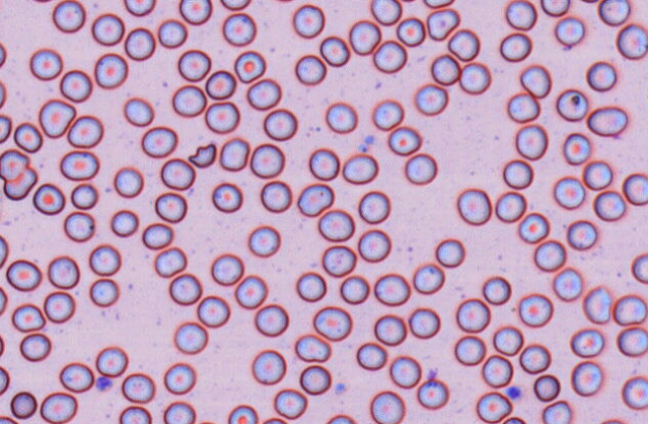PLT: (95, 374, 113, 392), (507, 385, 522, 400), (334, 382, 349, 396), (358, 143, 370, 153), (364, 135, 374, 145)
RBC: (38, 98, 75, 138), (312, 305, 352, 341), (456, 187, 491, 225), (249, 142, 284, 178), (251, 349, 286, 385), (94, 52, 128, 89), (587, 105, 627, 136), (455, 297, 490, 332), (518, 292, 553, 327), (67, 114, 103, 148), (317, 208, 354, 241), (373, 272, 410, 305), (39, 391, 77, 423), (59, 150, 99, 180), (369, 390, 405, 423), (348, 19, 381, 55), (297, 183, 333, 216), (515, 123, 547, 160), (3, 166, 37, 200), (357, 228, 391, 262), (373, 39, 407, 73), (222, 12, 256, 46), (254, 303, 289, 336), (160, 157, 195, 190), (173, 321, 208, 354), (204, 100, 239, 133), (321, 244, 356, 277), (171, 84, 206, 117), (246, 77, 281, 110), (6, 258, 41, 291), (475, 391, 511, 423), (570, 360, 602, 396), (141, 125, 177, 157), (373, 313, 407, 346), (234, 274, 267, 308), (163, 361, 196, 395), (210, 252, 244, 285), (292, 3, 324, 38), (616, 23, 647, 59), (342, 153, 378, 184), (426, 7, 459, 40), (447, 28, 480, 61), (404, 152, 437, 185), (88, 243, 121, 276), (247, 224, 280, 257), (91, 12, 124, 45), (32, 182, 65, 215), (59, 69, 92, 102), (29, 47, 62, 80), (168, 273, 202, 305), (519, 64, 551, 98), (196, 295, 230, 327), (47, 255, 79, 289), (51, 0, 85, 32), (414, 83, 448, 115), (263, 108, 297, 140), (177, 49, 211, 81), (582, 286, 611, 323), (389, 355, 421, 388), (481, 354, 513, 387), (459, 61, 491, 94), (154, 191, 187, 223), (358, 190, 390, 223), (233, 50, 265, 83), (533, 239, 566, 271), (95, 345, 128, 377), (43, 290, 75, 323), (553, 176, 585, 209), (593, 189, 626, 221), (273, 388, 307, 419), (121, 372, 155, 403), (124, 26, 155, 60), (59, 362, 94, 392), (294, 333, 330, 362), (412, 262, 444, 294), (494, 190, 526, 222), (63, 210, 95, 242), (325, 101, 357, 133), (260, 180, 292, 212), (372, 98, 404, 130), (153, 246, 186, 277), (613, 294, 646, 325), (308, 147, 339, 180), (556, 88, 587, 121), (11, 302, 45, 332), (552, 267, 582, 301), (219, 137, 249, 171), (387, 125, 421, 155), (416, 378, 448, 409), (299, 364, 331, 395), (113, 166, 144, 198), (408, 307, 440, 338), (517, 212, 549, 243), (507, 91, 539, 122), (294, 54, 326, 85), (570, 328, 604, 357), (295, 271, 326, 302), (519, 343, 550, 374), (492, 325, 523, 356), (211, 181, 242, 212), (566, 219, 597, 250), (430, 53, 460, 85), (499, 32, 531, 62), (0, 148, 29, 181), (454, 335, 485, 365), (616, 326, 647, 356), (205, 69, 236, 99), (502, 159, 533, 189), (505, 0, 536, 30), (554, 16, 584, 47), (123, 96, 154, 126), (319, 35, 349, 66), (586, 60, 616, 91), (19, 332, 51, 361), (13, 121, 42, 153), (339, 274, 369, 304), (157, 18, 187, 48), (582, 160, 612, 190), (356, 341, 387, 370), (621, 375, 647, 409), (89, 278, 119, 307), (482, 275, 511, 305), (396, 16, 425, 46), (563, 132, 590, 164), (622, 172, 648, 205), (178, 0, 212, 25), (435, 238, 464, 267), (142, 222, 173, 249), (598, 0, 630, 25), (110, 209, 138, 237), (370, 0, 401, 25), (163, 400, 196, 423), (10, 391, 37, 419), (70, 182, 98, 209), (533, 374, 560, 401), (542, 400, 571, 423), (118, 405, 151, 424), (227, 404, 257, 423), (123, 0, 155, 16), (631, 252, 647, 283), (540, 0, 569, 16), (0, 113, 11, 143), (325, 413, 356, 423), (219, 0, 250, 10), (0, 234, 8, 268), (0, 365, 9, 395), (422, 0, 454, 8), (0, 285, 7, 315), (260, 417, 288, 424), (0, 78, 6, 108), (501, 416, 526, 423), (598, 418, 625, 424), (0, 41, 6, 67), (0, 415, 18, 423), (0, 333, 5, 357), (194, 420, 218, 424), (26, 0, 55, 3), (269, 0, 297, 3), (645, 82, 648, 109), (0, 191, 2, 222), (579, 0, 599, 3), (398, 0, 417, 2)
Schistocyte: (188, 144, 216, 167)
